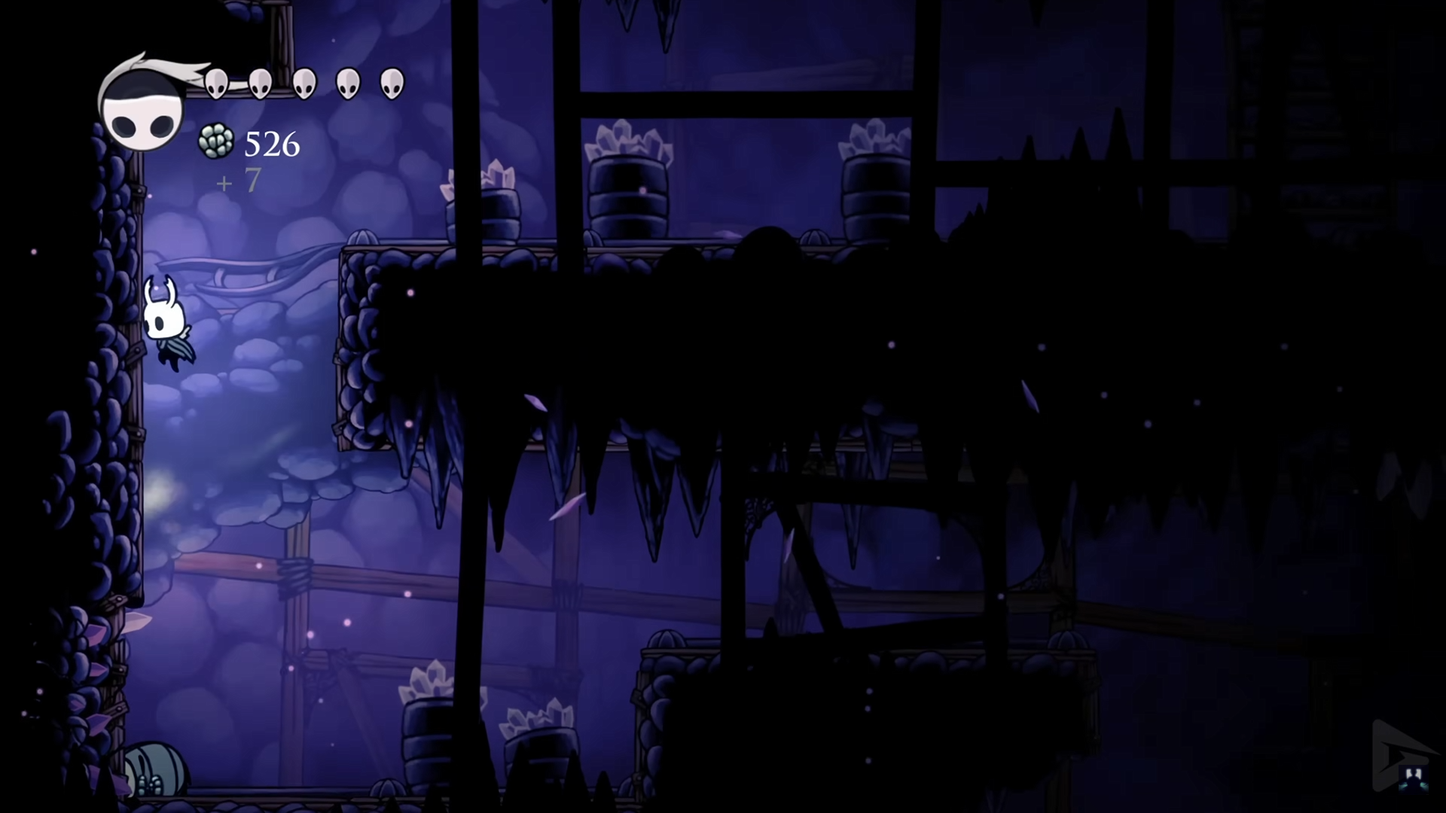HK: (137, 272, 194, 376)
